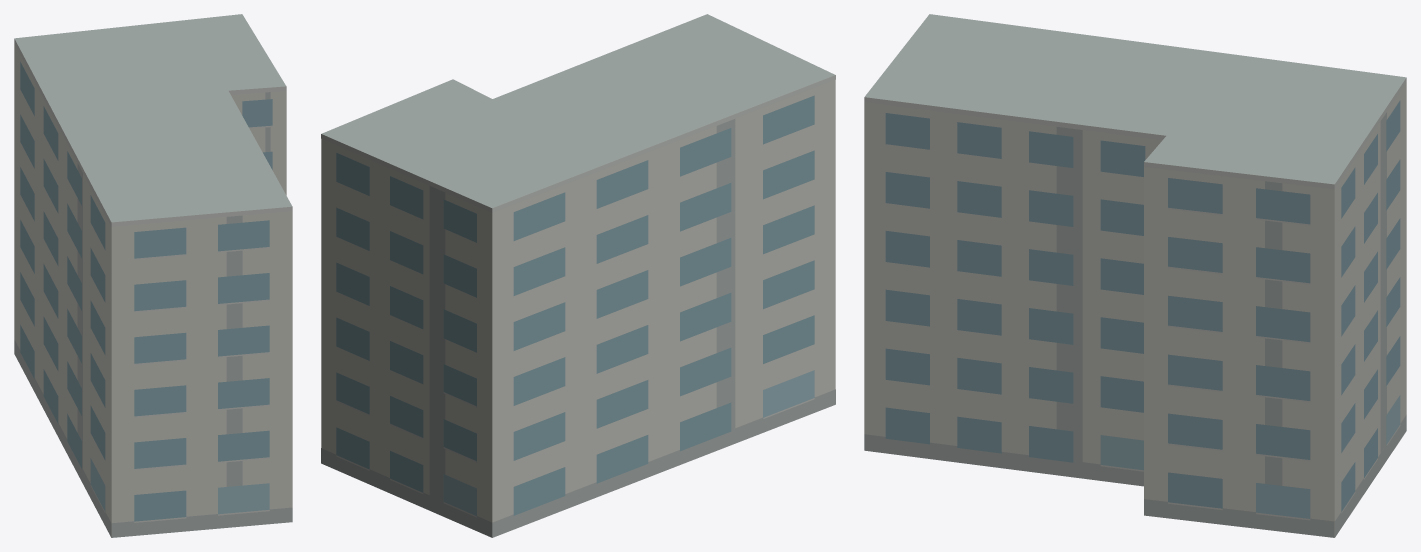
The model's file is survey-upis-32972459.glb.
3 renders of one model, left to right at view 1: azimuth 30°, elevation 25°; view 2: azimuth 150°, elevation 25°; view 3: azimuth 270°, elevation 25°, orthographic. The views are drawn at different scales.
Visible parts, largest first — view 1: survey-upis-32972459.tmp; view 2: survey-upis-32972459.tmp; view 3: survey-upis-32972459.tmp.
Boxes of the visible parts, x1,y1,x2,y2 form: survey-upis-32972459.tmp: (14, 14, 292, 537); survey-upis-32972459.tmp: (321, 14, 835, 537); survey-upis-32972459.tmp: (864, 14, 1406, 537).
Size of the model in its own units: 17.79 by 17.2 by 23.93.
